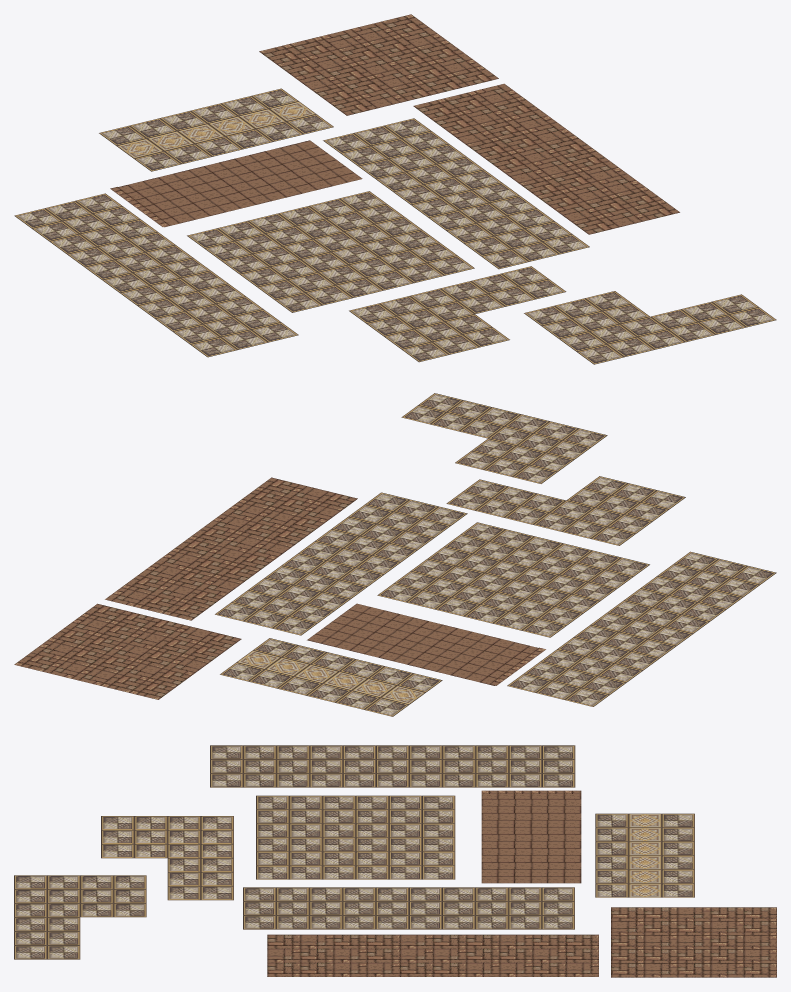
The model's file is ObjMD_Desert_Palace_Floor_A.FBX.
The picture shows the model from 3 angles, top to bottom: view 1: azimuth 30°, elevation 25°; view 2: azimuth 150°, elevation 25°; view 3: azimuth 270°, elevation 25°; orthographic projection. The views are drawn at different scales.
Parts seen in each view (by area): view 1: ObjMD_Desert_Palace_Floor_A, ObjMD_Desert_Palace_Floor_AE, ObjMD_Desert_Palace_Floor_AB, ObjMD_Desert_Palace_Floor_BB, ObjMD_Desert_Palace_Floor_BA, ObjMD_Desert_Palace_Floor_BC, ObjMD_Desert_Palace_Floor_AD, ObjMD_Desert_Palace_Floor_AC, ObjMD_Desert_Palace_Floor_Enter; view 2: ObjMD_Desert_Palace_Floor_A, ObjMD_Desert_Palace_Floor_AE, ObjMD_Desert_Palace_Floor_AB, ObjMD_Desert_Palace_Floor_BB, ObjMD_Desert_Palace_Floor_BA, ObjMD_Desert_Palace_Floor_BC, ObjMD_Desert_Palace_Floor_AC, ObjMD_Desert_Palace_Floor_AD, ObjMD_Desert_Palace_Floor_Enter; view 3: ObjMD_Desert_Palace_Floor_A, ObjMD_Desert_Palace_Floor_AE, ObjMD_Desert_Palace_Floor_AB, ObjMD_Desert_Palace_Floor_BB, ObjMD_Desert_Palace_Floor_BA, ObjMD_Desert_Palace_Floor_BC, ObjMD_Desert_Palace_Floor_AC, ObjMD_Desert_Palace_Floor_AD, ObjMD_Desert_Palace_Floor_Enter.
Part boxes in pixels (left/top/right/bottom): ObjMD_Desert_Palace_Floor_A: left=187, top=191, right=474, bottom=312; ObjMD_Desert_Palace_Floor_AE: left=14, top=193, right=298, bottom=357; ObjMD_Desert_Palace_Floor_AB: left=323, top=118, right=589, bottom=269; ObjMD_Desert_Palace_Floor_BB: left=413, top=83, right=679, bottom=234; ObjMD_Desert_Palace_Floor_BA: left=259, top=14, right=498, bottom=115; ObjMD_Desert_Palace_Floor_BC: left=110, top=140, right=362, bottom=227; ObjMD_Desert_Palace_Floor_AD: left=349, top=266, right=566, bottom=362; ObjMD_Desert_Palace_Floor_AC: left=524, top=291, right=776, bottom=364; ObjMD_Desert_Palace_Floor_Enter: left=99, top=88, right=333, bottom=171; ObjMD_Desert_Palace_Floor_A: left=377, top=522, right=649, bottom=637; ObjMD_Desert_Palace_Floor_AE: left=507, top=551, right=776, bottom=706; ObjMD_Desert_Palace_Floor_AB: left=215, top=492, right=467, bottom=635; ObjMD_Desert_Palace_Floor_BB: left=105, top=477, right=357, bottom=620; ObjMD_Desert_Palace_Floor_BA: left=14, top=603, right=241, bottom=699; ObjMD_Desert_Palace_Floor_BC: left=307, top=603, right=545, bottom=685; ObjMD_Desert_Palace_Floor_AC: left=401, top=393, right=607, bottom=483; ObjMD_Desert_Palace_Floor_AD: left=446, top=476, right=685, bottom=545; ObjMD_Desert_Palace_Floor_Enter: left=220, top=638, right=442, bottom=716; ObjMD_Desert_Palace_Floor_A: left=256, top=795, right=455, bottom=879; ObjMD_Desert_Palace_Floor_AE: left=210, top=745, right=575, bottom=787; ObjMD_Desert_Palace_Floor_AB: left=243, top=887, right=574, bottom=929; ObjMD_Desert_Palace_Floor_BB: left=267, top=934, right=598, bottom=976; ObjMD_Desert_Palace_Floor_BA: left=611, top=907, right=776, bottom=977; ObjMD_Desert_Palace_Floor_BC: left=481, top=790, right=581, bottom=883; ObjMD_Desert_Palace_Floor_AC: left=14, top=875, right=146, bottom=959; ObjMD_Desert_Palace_Floor_AD: left=101, top=816, right=233, bottom=900; ObjMD_Desert_Palace_Floor_Enter: left=595, top=813, right=694, bottom=897.
Bounding box in the file's own units: 3308 × 3.13 × 4598.
